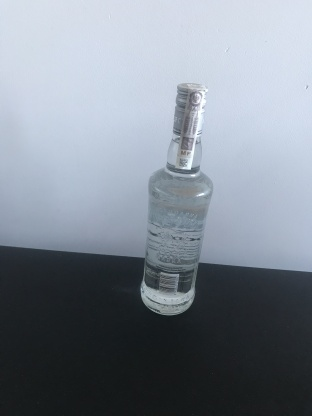nakretka: (171, 76, 210, 139)
